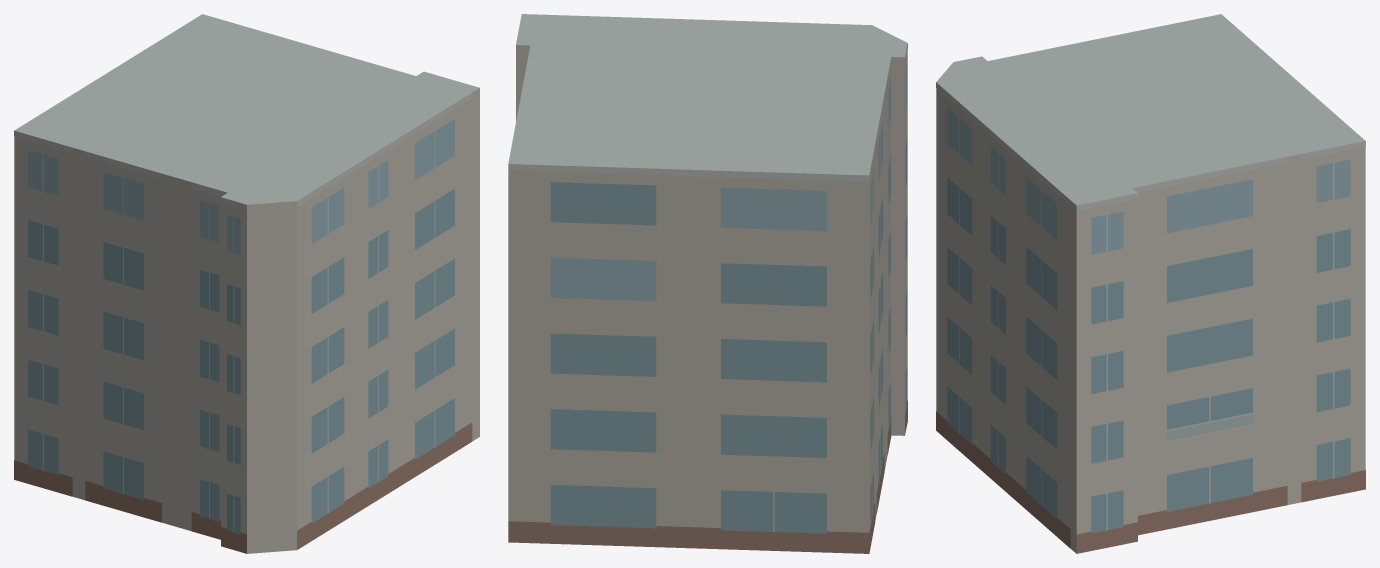
File: survey-upis-32738300.glb
3 views of the same model, side by side, from view 1: azimuth 30°, elevation 25°; view 2: azimuth 150°, elevation 25°; view 3: azimuth 270°, elevation 25° (orthographic). The views are drawn at different scales.
Visible parts, largest first — view 1: survey-upis-32738300.tmp; view 2: survey-upis-32738300.tmp; view 3: survey-upis-32738300.tmp.
Boxes of the visible parts, bbox=[...] form: survey-upis-32738300.tmp: bbox=[14, 14, 479, 553]; survey-upis-32738300.tmp: bbox=[508, 14, 907, 553]; survey-upis-32738300.tmp: bbox=[936, 14, 1365, 553].
Bounding box in the file's own units: 17.33 × 14.7 × 16.44.
